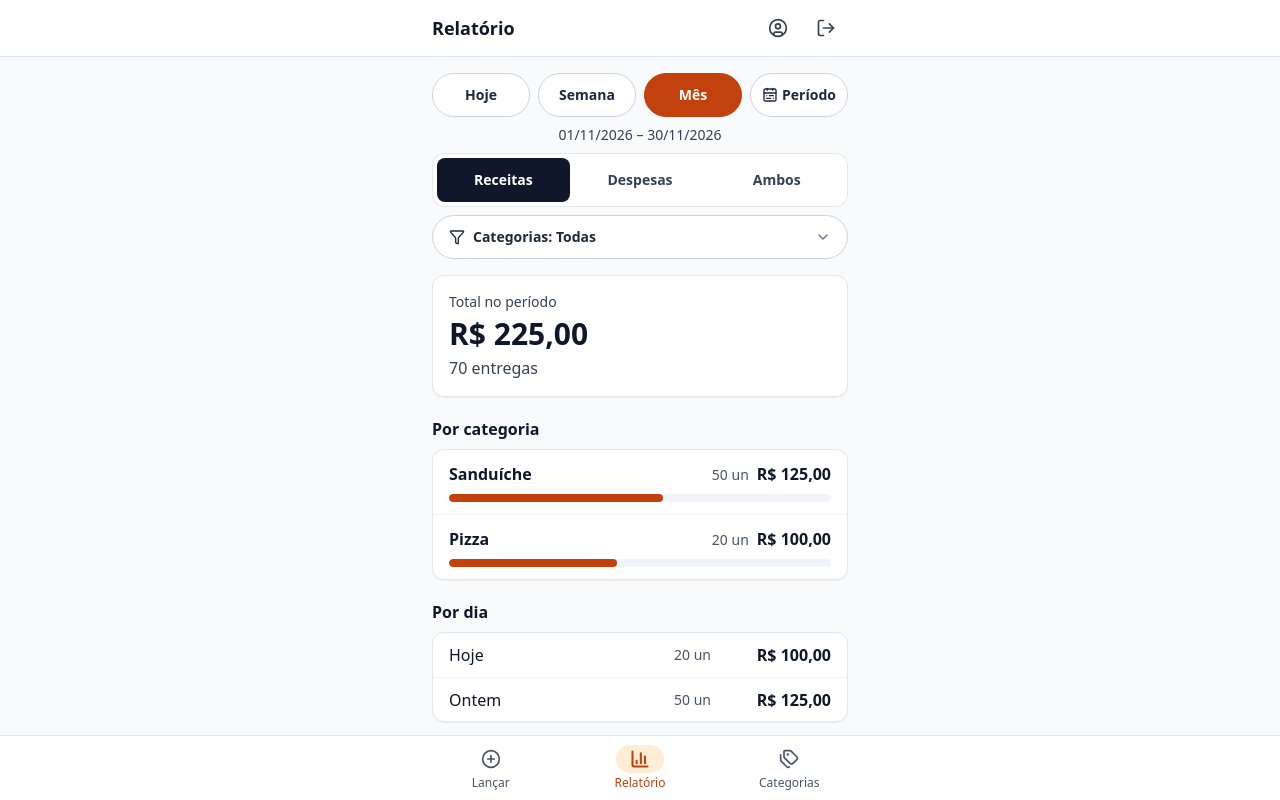
Scenario: Relatório: Receitas | Despesas | Ambos › Despesas: card "Total de despesas" R$ 35,90 com 1 lançamento, por categoria e por dia
Check: the element "Período" is shown, box [432,73,848,117]
Check: the element "Total no período" is shown, box [432,275,848,397]
Click the button "Despesas" at {"x": 640, "y": 180}, box [574,158,706,202]
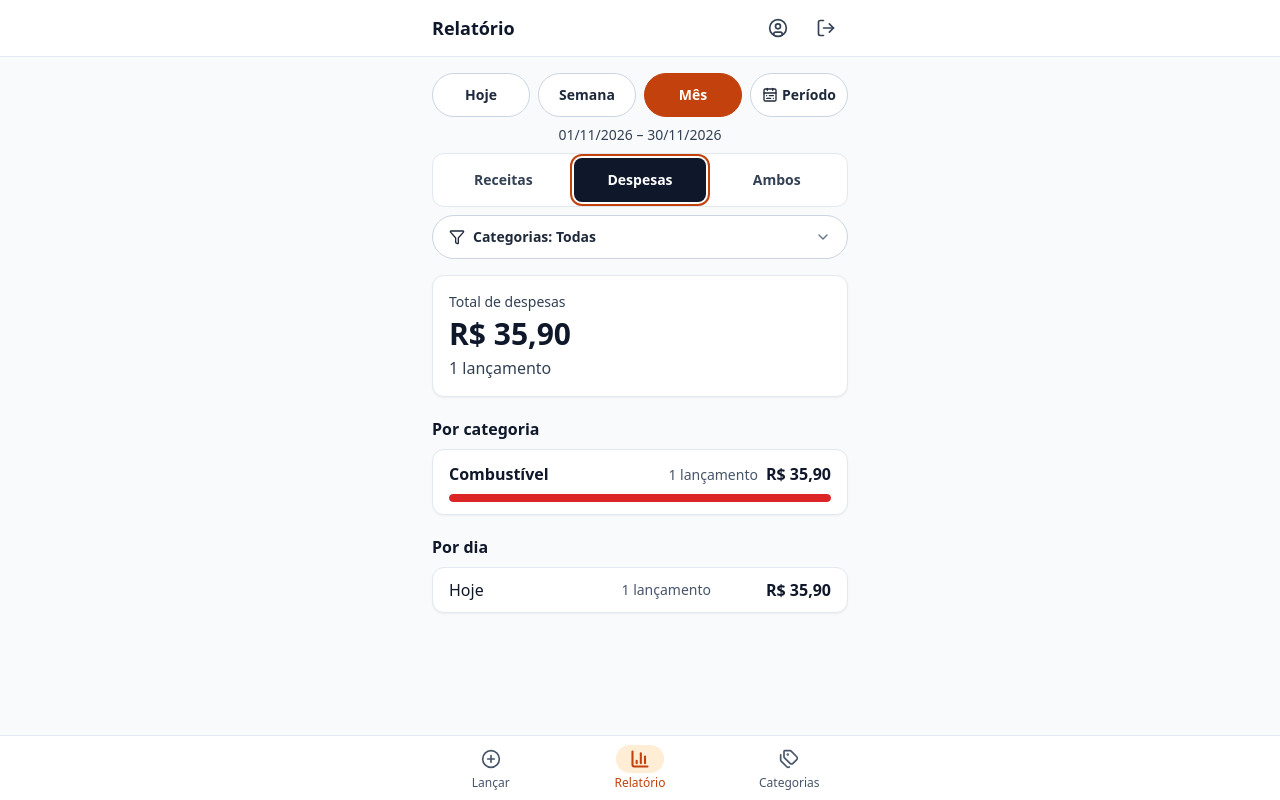
Check: the text "R$ 35,90" below "Total de despesas" is shown, box [449,313,571,354]
Check: the text "1 lançamento" below "Total de despesas" is shown, box [449,357,551,379]
Check: the text "Combustível" is shown, box [449,462,549,486]
